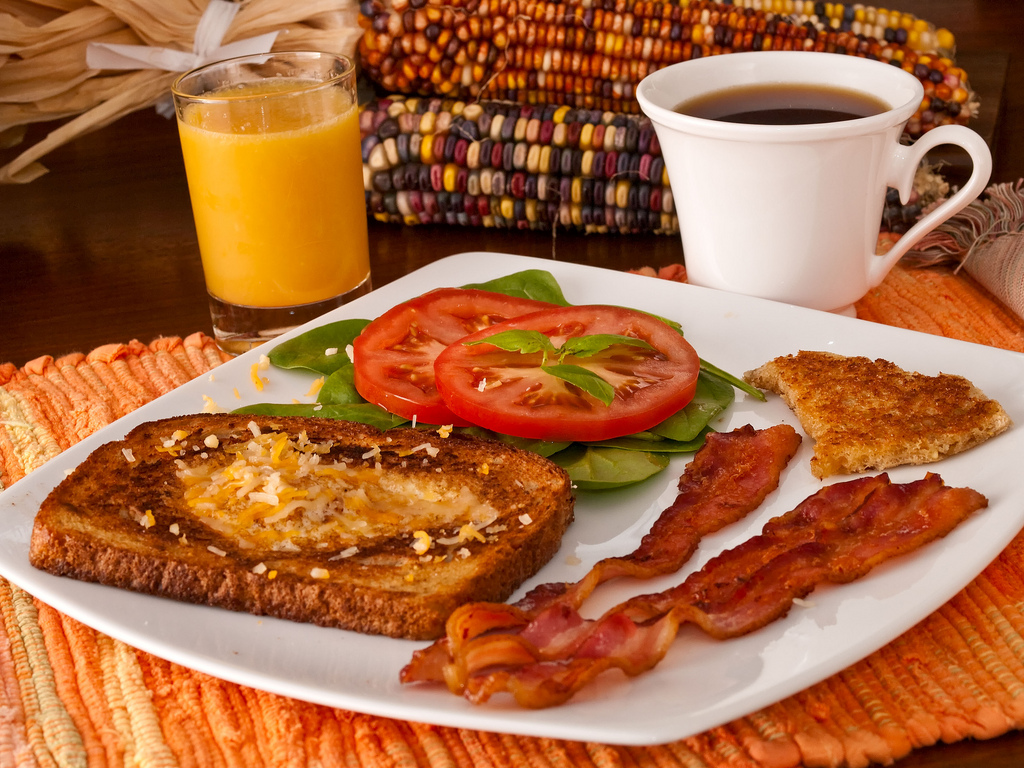chopped lettuce: (264, 320, 393, 435)
slice of bread: (36, 424, 574, 628)
